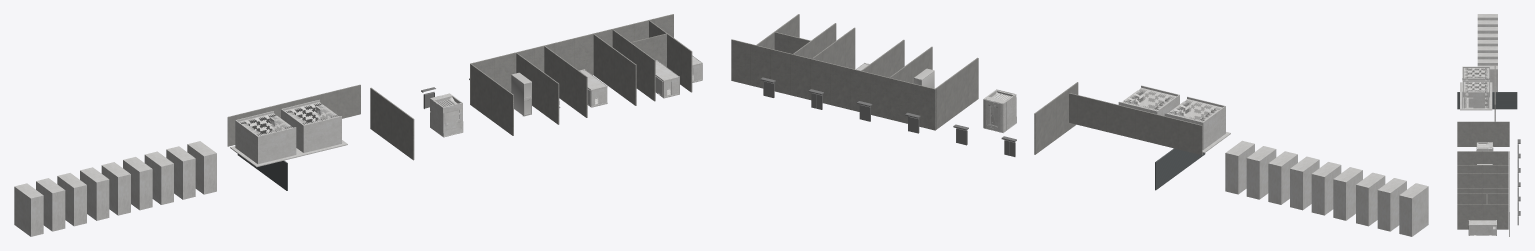
3 views of the same model, side by side, from view 1: azimuth 30°, elevation 25°; view 2: azimuth 150°, elevation 25°; view 3: azimuth 270°, elevation 25° (orthographic). The views are drawn at different scales.
Parts seen in each view (by area): view 1: polySurface6769, new_sac_15k_shebei, reverb_shebei, polySurface6761, polySurface6764, polySurface6760, polySurface6770, polySurface6763, polySurface6762, T2500_shebei, gas_shebei, polySurface6765 (+14 smaller); view 2: polySurface6769, polySurface6770, polySurface6760, new_sac_15k_shebei, polySurface6761, T2500_shebei, gas_shebei, T2_shebei, T5_shebei, T6_shebei, T18_shebei, reverb_shebei (+11 smaller); view 3: polySurface6761, polySurface6765, reverb_shebei, polySurface6763, polySurface6760, polySurface7188, new_sac_15k_shebei, polySurface6762, tk-1_shebei, polySurface6767, polySurface6764, polySurface6768 (+12 smaller).
Part boxes in pixels (<box>): polySurface6769: <box>470,14,673,104</box>; new_sac_15k_shebei: <box>230,111,302,167</box>; reverb_shebei: <box>281,99,347,155</box>; polySurface6761: <box>370,87,414,160</box>; polySurface6764: <box>593,34,636,105</box>; polySurface6760: <box>470,64,513,135</box>; polySurface6770: <box>227,84,360,146</box>; polySurface6763: <box>544,46,587,117</box>; polySurface6762: <box>516,53,559,124</box>; T2500_shebei: <box>14,183,43,236</box>; gas_shebei: <box>430,93,463,137</box>; polySurface6765: <box>649,20,692,92</box>; polySurface6769: <box>731,39,935,130</box>; polySurface6770: <box>1069,93,1202,154</box>; polySurface6760: <box>935,57,978,129</box>; new_sac_15k_shebei: <box>1164,96,1230,153</box>; polySurface6761: <box>1034,82,1078,154</box>; T2500_shebei: <box>1399,183,1428,236</box>; gas_shebei: <box>983,89,1016,132</box>; T2_shebei: <box>1246,146,1276,199</box>; T5_shebei: <box>1311,162,1341,215</box>; T6_shebei: <box>1333,167,1362,220</box>; T18_shebei: <box>1377,178,1406,231</box>; reverb_shebei: <box>1118,85,1179,115</box>; polySurface6761: <box>1457,121,1509,146</box>; polySurface6765: <box>1457,204,1508,229</box>; reverb_shebei: <box>1460,80,1492,110</box>; polySurface6763: <box>1457,173,1508,187</box>; polySurface6760: <box>1457,151,1508,164</box>; polySurface7188: <box>1457,92,1517,109</box>; new_sac_15k_shebei: <box>1460,66,1492,95</box>; polySurface6762: <box>1457,165,1508,173</box>; tk-1_shebei: <box>1468,220,1496,235</box>; polySurface6767: <box>1457,193,1486,204</box>; polySurface6764: <box>1457,188,1508,193</box>; polySurface6768: <box>1487,193,1508,204</box>.
Bounding box in the file's own units: 153 × 12.79 × 20.63.
Materials: 4 (3 with a texture image).
